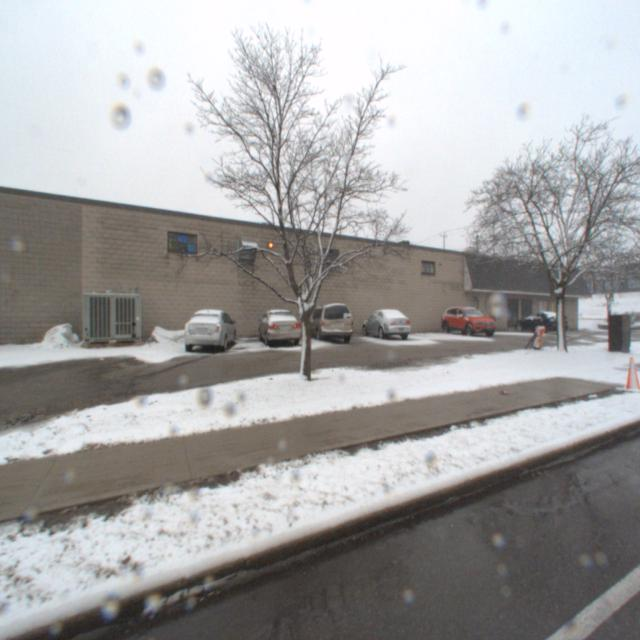Car: (177, 301, 235, 354), (298, 298, 358, 344), (434, 305, 499, 340), (356, 306, 416, 342), (255, 304, 303, 348), (507, 312, 568, 338)
